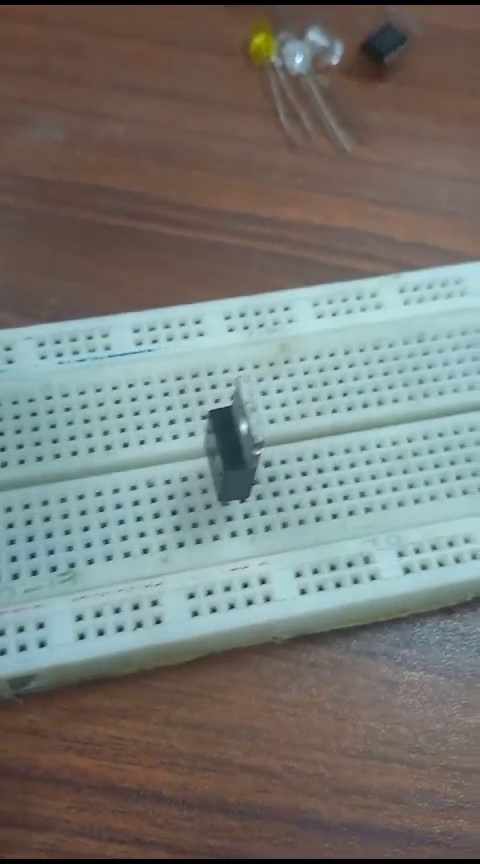voltage regulator: (193, 380, 268, 525)
